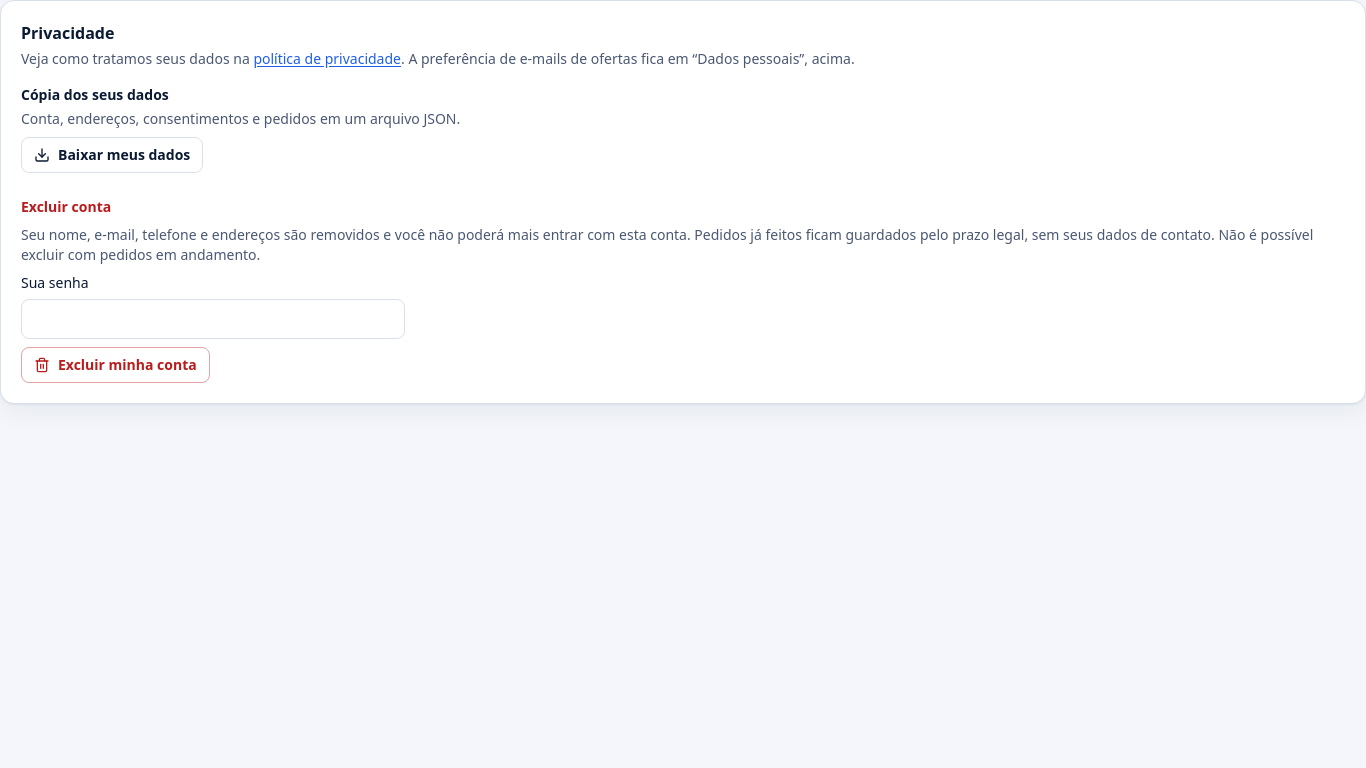
Scenario: PrivacyCard › shows the server reason when deletion is refused
The image size is (1366, 768).
Type "minha-senha-123" into the password field labelled "Sua senha" at (213, 319), box [21, 299, 405, 339]
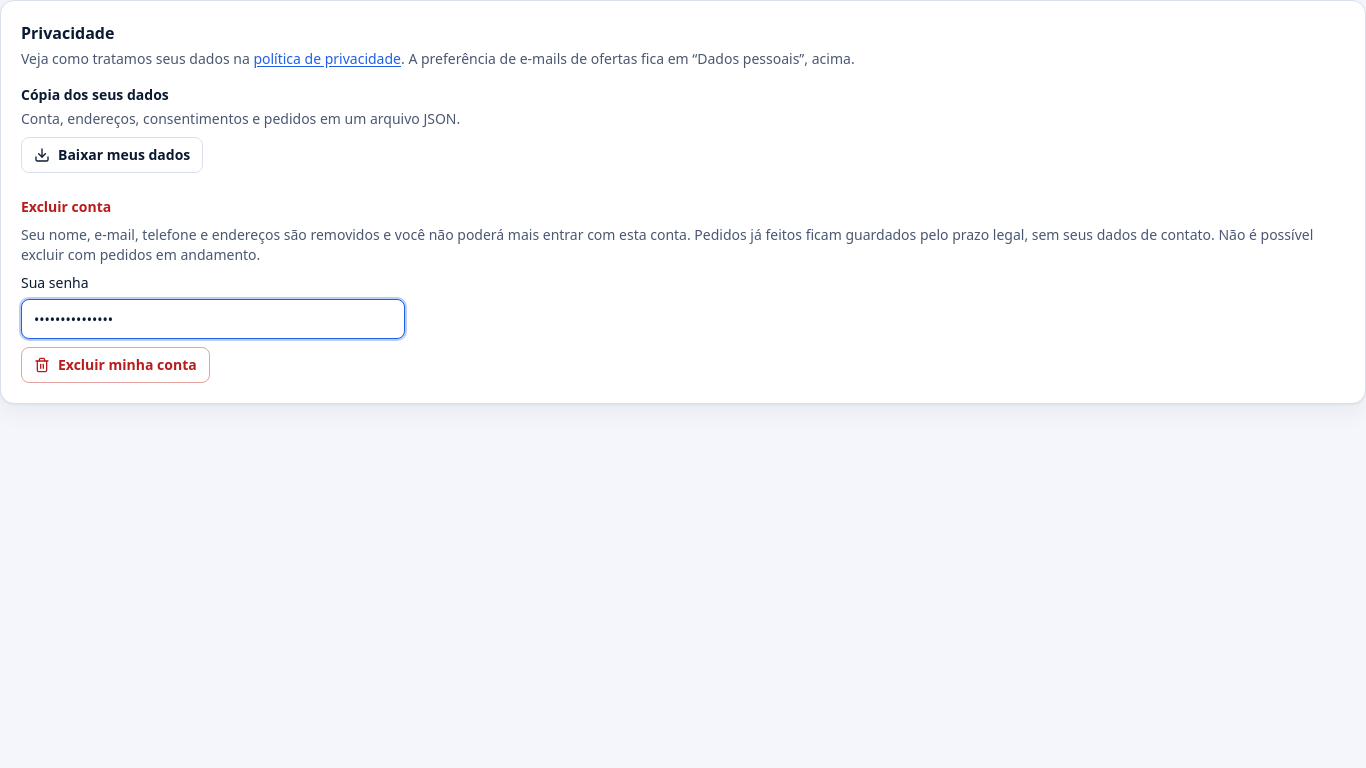
Click the button "Excluir minha conta" at (115, 365), box [21, 347, 210, 383]
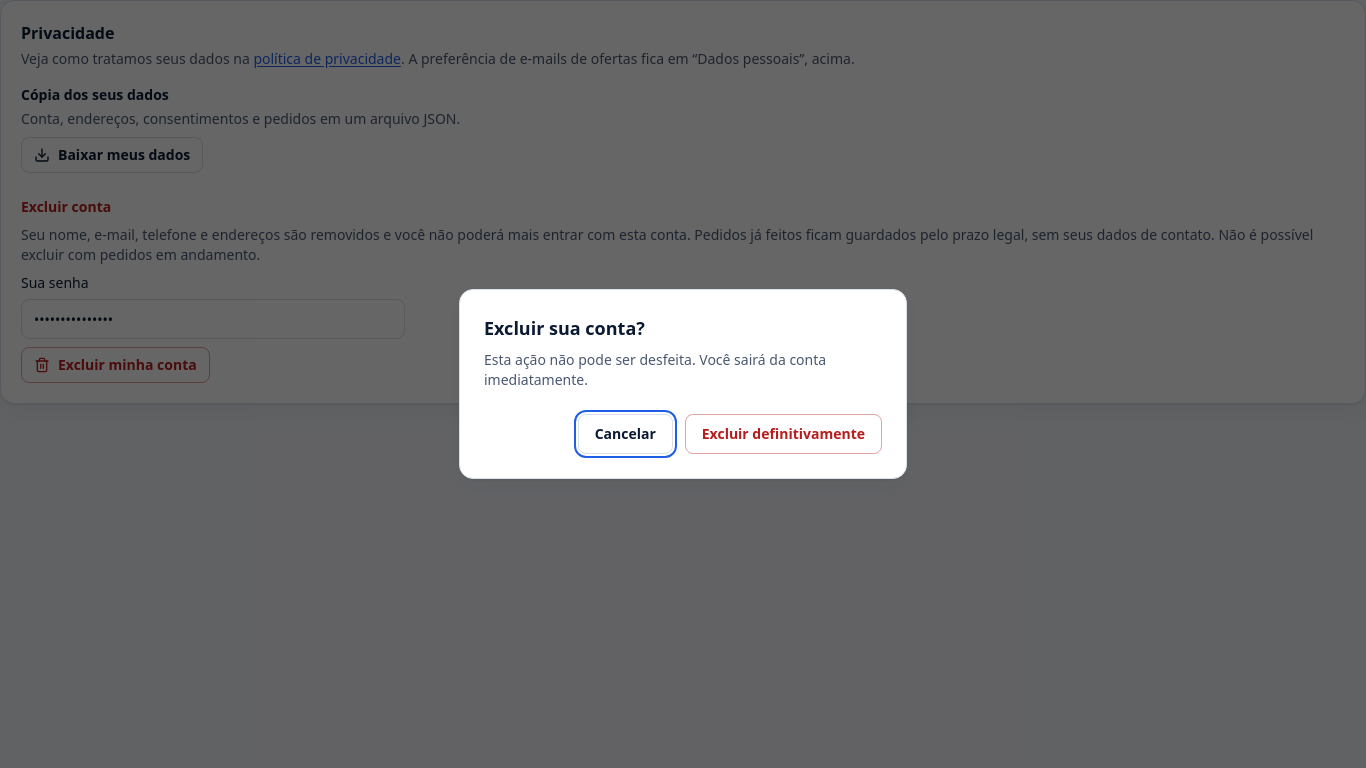
Click the button "Excluir definitivamente" at (783, 434), box [685, 414, 882, 454]
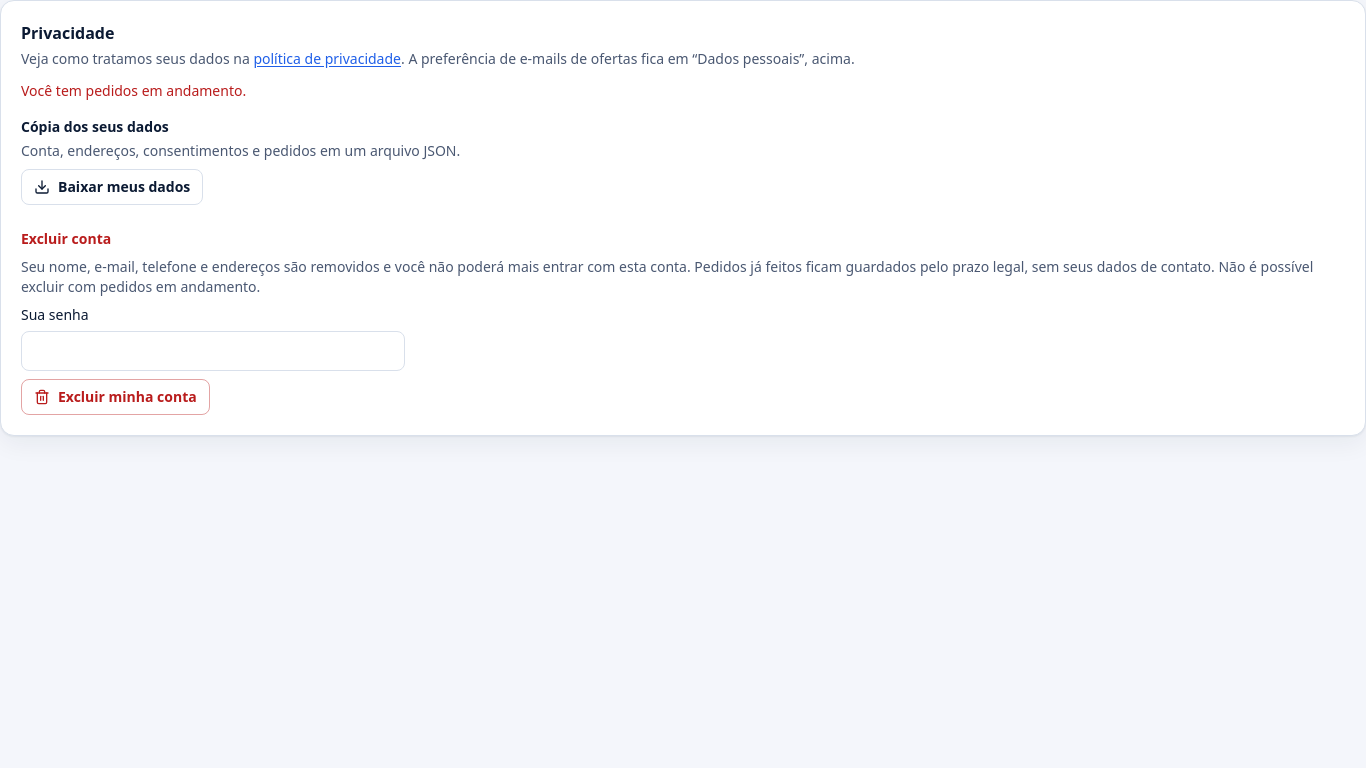
Result: the message reads "Você tem pedidos em andamento." at [21, 81, 246, 100]
